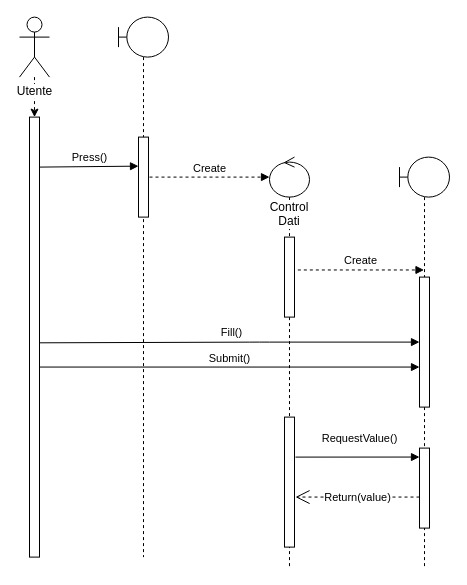
This 467x585 diagram has some shape labels left out. Each missing label, with the box of its shape:
Button Modifica Dati: (118, 16, 168, 557)
Form Modifica Dati: (398, 156, 450, 567)
